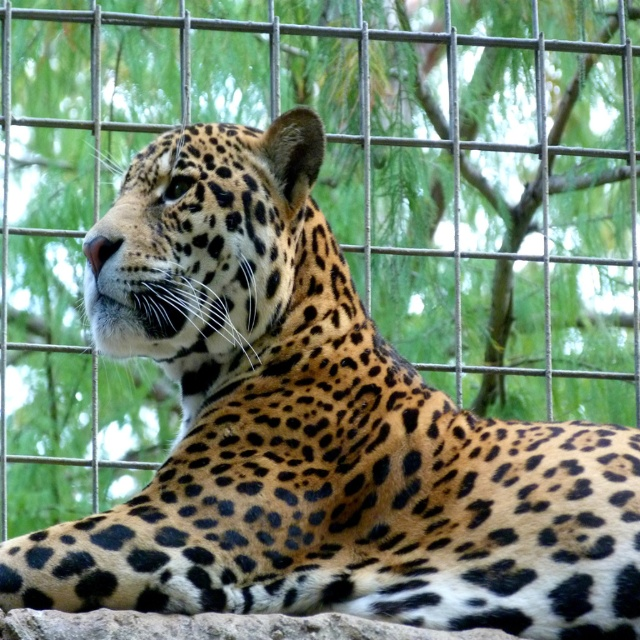Jaguar: (0, 102, 640, 639)
